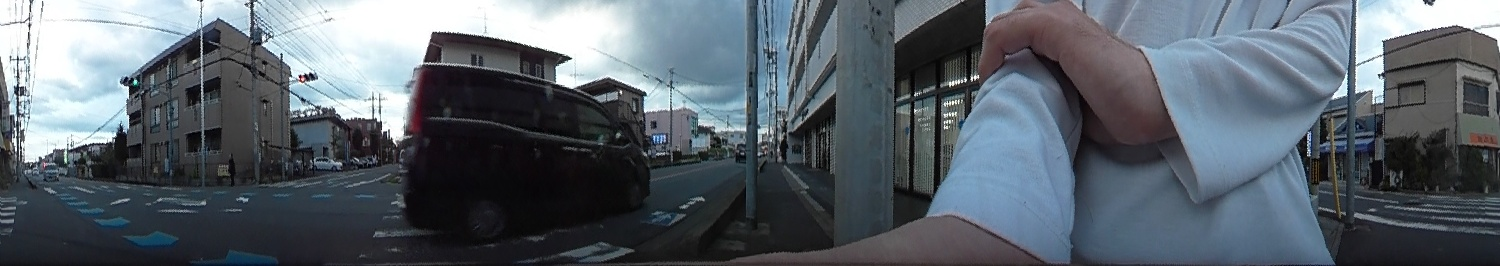difficult_person: (778, 135, 791, 164)
